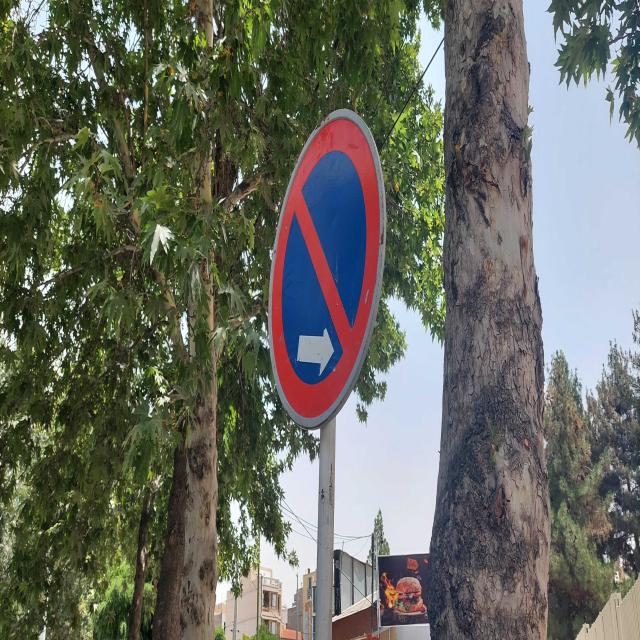forb_stopping: (268, 106, 384, 431)
